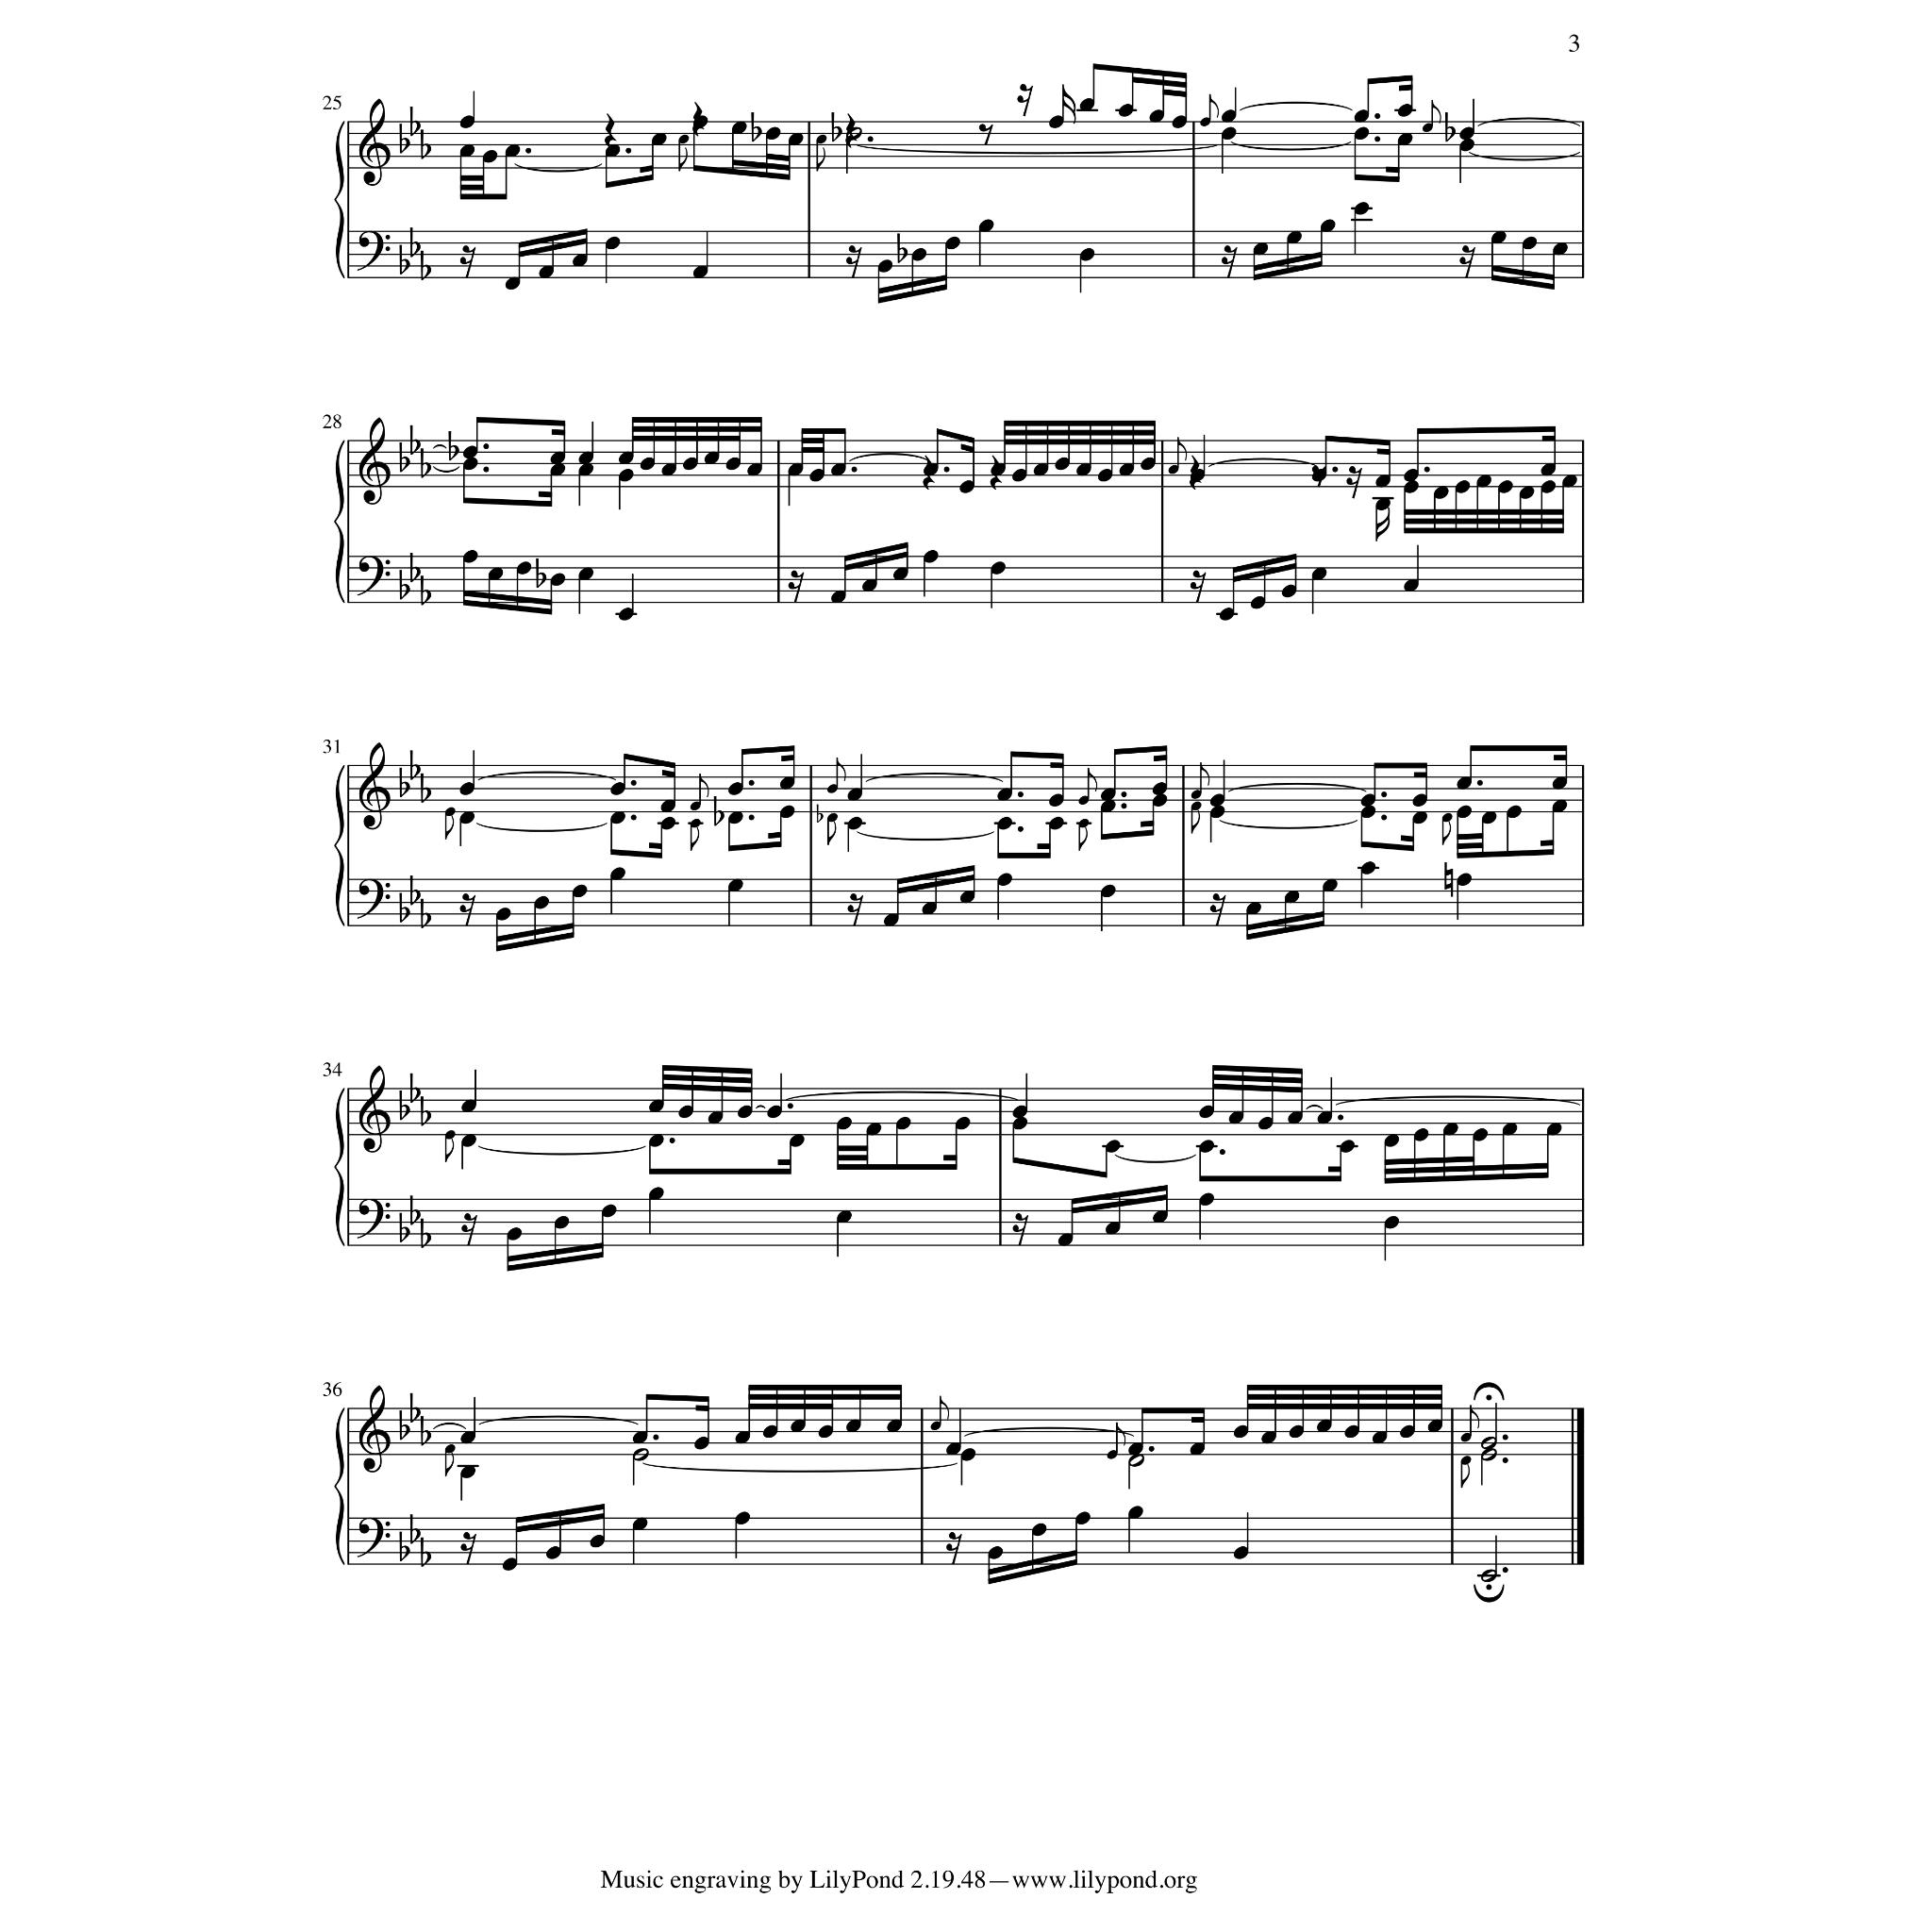brace: (333, 440, 344, 604), (333, 765, 344, 927), (333, 121, 344, 279), (333, 1089, 344, 1247), (333, 1407, 344, 1566)
fClef: (357, 230, 391, 272), (357, 1198, 391, 1240), (357, 1517, 391, 1558), (357, 557, 391, 596), (357, 879, 391, 919)
flag16thDown: (1375, 508, 1391, 541)
flag16thUp: (1062, 85, 1075, 125)
flag8thDown: (1191, 809, 1201, 834), (1078, 826, 1088, 851), (1442, 821, 1452, 845), (691, 826, 700, 851), (445, 815, 455, 840), (827, 821, 837, 845), (445, 1139, 455, 1163), (445, 1452, 455, 1476), (679, 147, 687, 172), (817, 147, 824, 172), (1462, 1464, 1470, 1489)
flag8thUp: (1209, 94, 1219, 119), (1432, 100, 1441, 125), (1177, 437, 1187, 461), (1088, 768, 1097, 792), (1201, 762, 1210, 787), (699, 774, 708, 798), (837, 758, 846, 782), (1116, 1423, 1125, 1447), (940, 1395, 949, 1420), (1470, 1406, 1479, 1428)
gClef: (358, 98, 391, 187), (358, 417, 391, 506), (358, 742, 391, 831), (358, 1065, 391, 1154), (358, 1385, 391, 1474)
noteheadBlack: (1396, 132, 1413, 147), (572, 253, 589, 268), (787, 132, 804, 147), (1140, 457, 1157, 472), (1432, 485, 1449, 500), (724, 457, 741, 472), (681, 457, 698, 472), (1057, 1232, 1074, 1247), (600, 1204, 617, 1219), (651, 132, 666, 147), (1055, 457, 1070, 472), (1519, 485, 1534, 500), (640, 457, 655, 472), (462, 445, 477, 460), (462, 457, 477, 472), (502, 1557, 517, 1572), (694, 1436, 709, 1451), (460, 1464, 475, 1479), (977, 220, 994, 233), (1521, 237, 1538, 250), (1396, 104, 1413, 117), (1353, 203, 1370, 216), (1353, 127, 1370, 141), (1458, 127, 1475, 141), (1458, 139, 1475, 152), (1353, 110, 1370, 124), (604, 237, 621, 250), (604, 144, 621, 158), (538, 265, 555, 278), (504, 277, 521, 291), (504, 144, 521, 158), (481, 150, 498, 163), (458, 144, 475, 158), (458, 116, 475, 129), (730, 122, 747, 135), (764, 127, 781, 141), (1249, 596, 1266, 609), (1011, 469, 1028, 482), (1032, 463, 1049, 476), (1096, 469, 1113, 482), (1075, 463, 1092, 476), (1540, 463, 1557, 476), (1540, 480, 1557, 493), (1496, 480, 1513, 493), (1475, 475, 1492, 488), (577, 452, 594, 465), (577, 463, 594, 476), (577, 568, 594, 581), (549, 574, 566, 587), (549, 463, 566, 476), (660, 463, 677, 476), (549, 452, 566, 465), (617, 608, 634, 621), (617, 469, 634, 482), (617, 452, 634, 465), (487, 568, 504, 581), (515, 561, 532, 575), (923, 463, 940, 476), (923, 550, 940, 563), (860, 579, 877, 592), (830, 591, 847, 604), (830, 463, 847, 476), (787, 463, 804, 476), (1283, 891, 1300, 904), (1245, 902, 1262, 915), (1151, 794, 1168, 808), (1151, 782, 1168, 795), (1551, 800, 1568, 813), (1551, 776, 1568, 790), (1506, 806, 1523, 819), (1411, 794, 1428, 808), (1411, 811, 1428, 824), (609, 868, 626, 881), (609, 811, 626, 824), (609, 782, 626, 795), (726, 879, 743, 892), (726, 811, 743, 824), (726, 782, 743, 795), (458, 782, 475, 795), (494, 908, 511, 921), (458, 811, 475, 824), (921, 902, 938, 915), (958, 891, 975, 904), (996, 874, 1013, 887), (996, 817, 1013, 830), (996, 789, 1013, 802), (1198, 1193, 1215, 1207), (1198, 1140, 1215, 1153), (1198, 1106, 1215, 1119), (1287, 1111, 1304, 1124), (1257, 1117, 1274, 1130), (1151, 1210, 1168, 1224), (1545, 1123, 1562, 1136), (1383, 1216, 1400, 1229), (1383, 1134, 1400, 1147), (1472, 1128, 1489, 1141), (553, 1216, 570, 1229), (506, 1227, 523, 1241), (647, 1187, 664, 1200), (647, 1134, 664, 1147), (647, 1100, 664, 1113), (894, 1117, 911, 1130), (1011, 1117, 1028, 1130), (1011, 1106, 1028, 1119), (766, 1106, 783, 1119), (677, 1106, 694, 1119), (789, 1134, 806, 1147), (987, 1546, 1004, 1559), (1343, 1425, 1360, 1439), (1315, 1419, 1332, 1432), (1189, 1442, 1206, 1456), (1426, 1419, 1443, 1432), (589, 1535, 606, 1548), (734, 1431, 751, 1444), (945, 1442, 962, 1456), (845, 1419, 862, 1432), (734, 1511, 751, 1524), (817, 1425, 834, 1439), (1221, 127, 1236, 141), (1221, 110, 1236, 124), (1287, 231, 1302, 244), (1253, 242, 1268, 256), (1321, 220, 1336, 233), (1079, 248, 1094, 261), (1079, 98, 1094, 111), (1049, 116, 1064, 129), (1172, 116, 1187, 129), (1149, 110, 1164, 124), (1119, 104, 1134, 117), (1553, 242, 1568, 256), (1491, 231, 1506, 244), (692, 265, 708, 278), (692, 116, 708, 129), (911, 248, 926, 261), (877, 260, 892, 274), (945, 237, 960, 250), (1190, 469, 1205, 482), (1311, 469, 1326, 482), (1281, 585, 1296, 598), (1311, 568, 1326, 581), (1219, 608, 1234, 621), (991, 561, 1006, 575), (991, 463, 1006, 476), (1119, 463, 1134, 476), (1562, 475, 1577, 488), (1404, 469, 1419, 482), (1375, 498, 1391, 511), (1375, 475, 1391, 488), (1404, 480, 1419, 493), (1455, 480, 1470, 493), (1404, 579, 1419, 592), (462, 550, 477, 563), (809, 469, 824, 482), (892, 568, 908, 581), (704, 452, 719, 465), (959, 480, 974, 493), (747, 463, 762, 476), (1209, 806, 1224, 819), (1209, 794, 1224, 808), (1323, 879, 1338, 892), (1360, 794, 1375, 808), (1360, 806, 1375, 819), (1360, 861, 1375, 874), (1100, 885, 1115, 898), (1100, 800, 1115, 813), (1100, 789, 1115, 802), (1481, 811, 1496, 824), (1457, 874, 1472, 887), (1457, 806, 1472, 819), (1457, 776, 1472, 790), (660, 817, 675, 830), (660, 800, 675, 813), (572, 885, 587, 898), (534, 896, 549, 909), (883, 913, 898, 926), (847, 817, 862, 830), (847, 789, 862, 802), (1049, 817, 1064, 830), (1049, 794, 1064, 808), (779, 806, 794, 819), (779, 776, 794, 790), (1228, 1111, 1243, 1124), (1106, 1222, 1121, 1235), (1106, 1140, 1121, 1153), (1340, 1140, 1355, 1153), (1502, 1123, 1517, 1136), (1317, 1111, 1332, 1124), (1443, 1123, 1458, 1136), (1413, 1128, 1428, 1141), (460, 1134, 475, 1147), (460, 1100, 475, 1113), (866, 1123, 881, 1136), (836, 1210, 851, 1224), (836, 1117, 851, 1130), (955, 1117, 970, 1130), (738, 1106, 753, 1119), (708, 1111, 723, 1124), (1261, 1431, 1276, 1444), (1234, 1425, 1249, 1439), (1234, 1546, 1249, 1559), (1372, 1431, 1387, 1444), (1289, 1425, 1304, 1439), (1075, 1511, 1091, 1524), (1032, 1524, 1047, 1537), (1128, 1506, 1143, 1519), (1128, 1442, 1143, 1456), (1400, 1425, 1415, 1439), (632, 1517, 647, 1530), (632, 1431, 647, 1444), (545, 1546, 560, 1559), (460, 1431, 475, 1444), (887, 1419, 902, 1432), (960, 1448, 975, 1461), (762, 1425, 777, 1439), (791, 1419, 806, 1432), (1199, 117, 1210, 128), (1422, 123, 1433, 134), (678, 134, 690, 145), (816, 134, 827, 145), (1168, 464, 1179, 475), (1191, 789, 1202, 800), (1107, 1449, 1118, 1460), (1460, 1455, 1472, 1466), (930, 1421, 941, 1432), (1077, 819, 1089, 828), (1077, 796, 1089, 806), (1191, 802, 1202, 811), (1441, 813, 1453, 823), (690, 819, 701, 828), (690, 802, 701, 811), (444, 808, 456, 817), (826, 813, 838, 823), (826, 785, 838, 794), (444, 1130, 456, 1140), (1460, 1433, 1472, 1442), (444, 1444, 456, 1454)
noteheadHalf: (1480, 1436, 1497, 1451), (845, 127, 862, 141), (1127, 1454, 1144, 1467), (1480, 1569, 1497, 1582), (1480, 1448, 1497, 1461), (632, 1448, 649, 1461)
rest16th: (1221, 245, 1238, 279), (1458, 245, 1475, 279), (458, 245, 475, 279), (845, 245, 862, 279), (1190, 570, 1207, 604), (1345, 466, 1362, 500), (788, 570, 805, 604), (1209, 893, 1226, 927), (458, 893, 475, 927), (846, 893, 863, 927), (460, 1213, 477, 1247), (1012, 1213, 1029, 1247), (459, 1531, 476, 1565), (945, 1531, 962, 1565), (1017, 85, 1034, 117)
rest8th: (978, 124, 993, 146), (1311, 466, 1326, 489)
restQuarter: (604, 113, 617, 149), (1189, 455, 1202, 491), (692, 102, 704, 138), (845, 113, 857, 149), (991, 455, 1002, 491), (923, 455, 934, 491)
